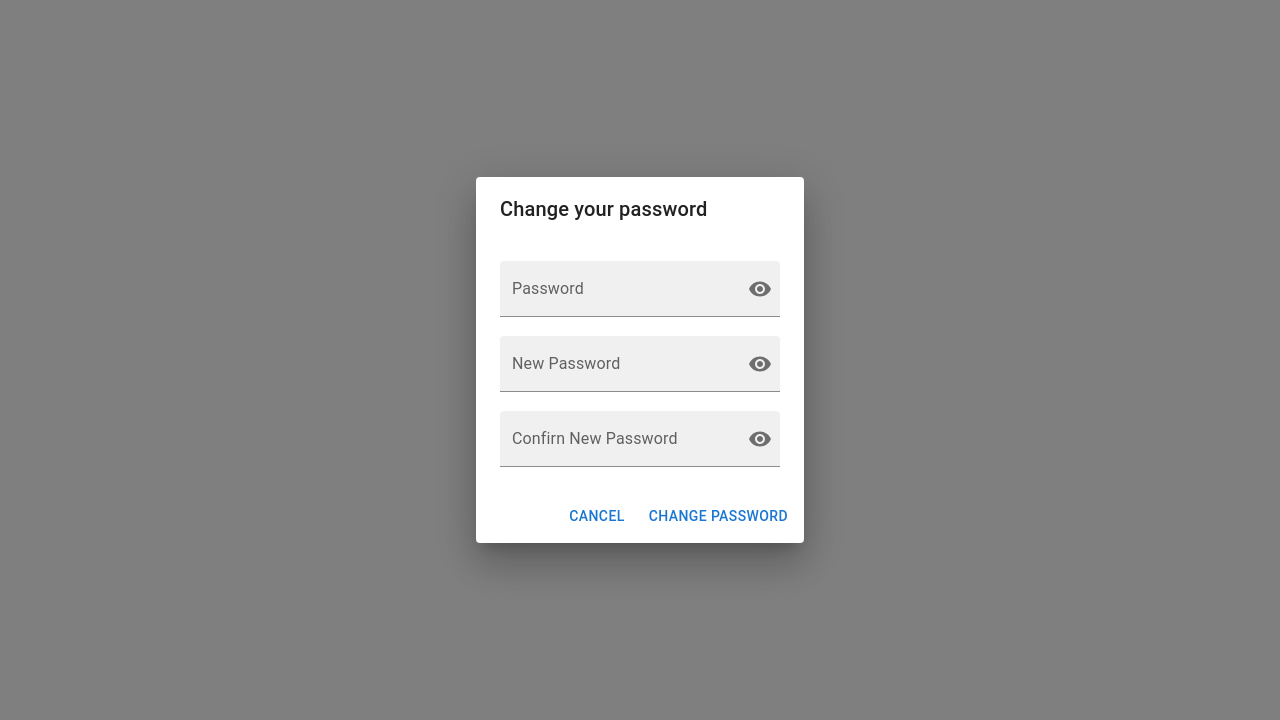
Scenario: ChangePasswordDialog: › Tests with requests: › Should show new password error message.
The image size is (1280, 720).
User fills all inputs correctly
In the password field with placeholder "Password you logged in": (616, 289) [500,261,732,317], type "password"
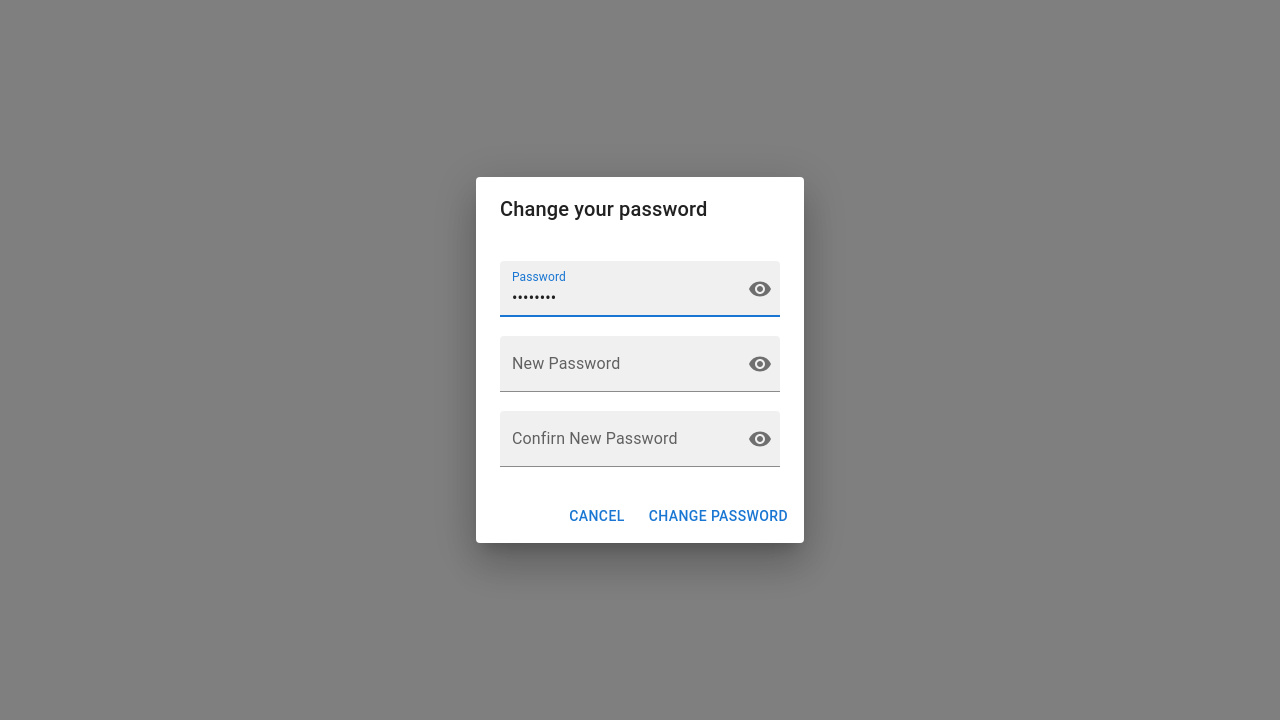
In the password field with placeholder "Min. 8 characters": (616, 364) [500,336,732,392], type "password"
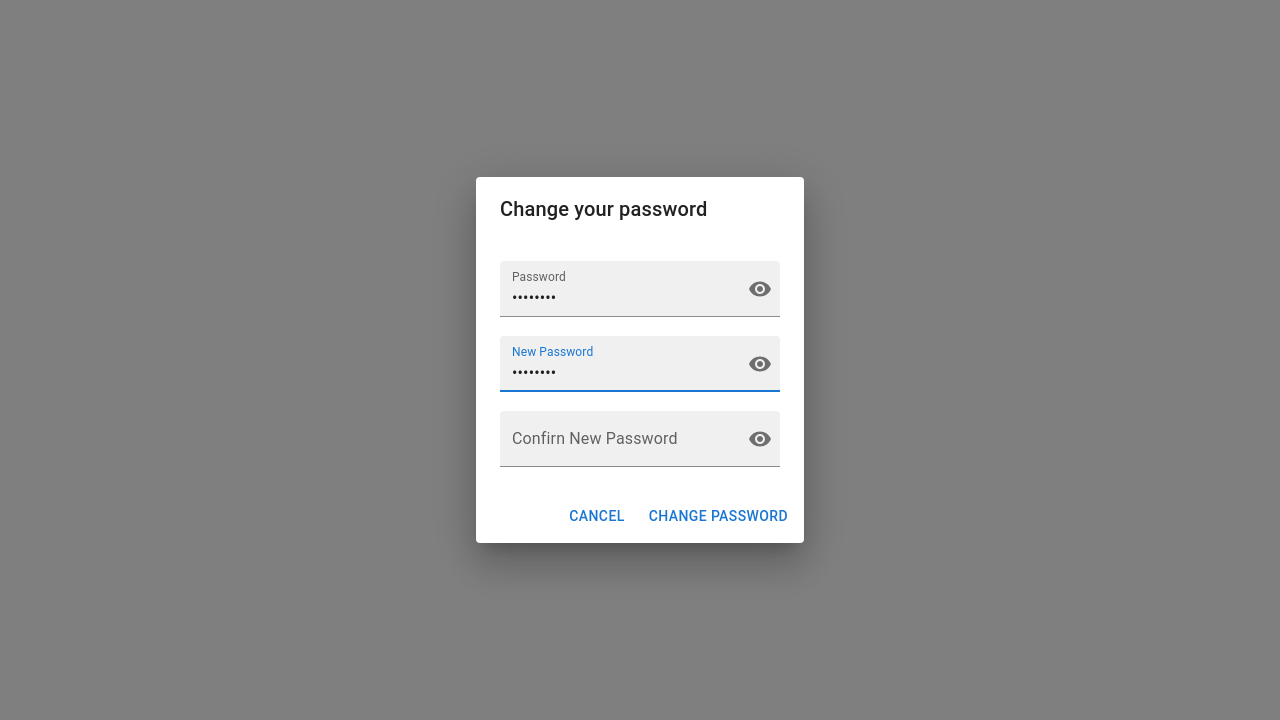
In the password field with placeholder "New password confirmation": (616, 439) [500,411,732,467], type "password"
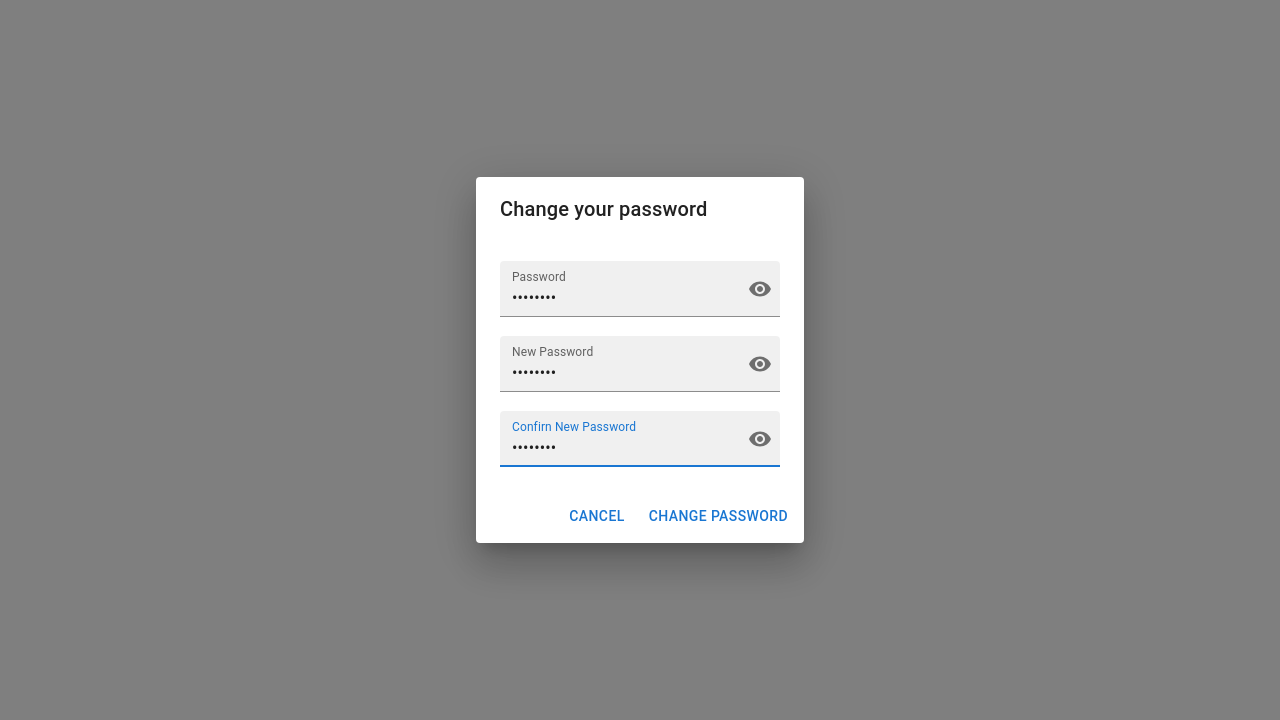
Click the button "Change Password": (718, 517) [641,498,796,535]
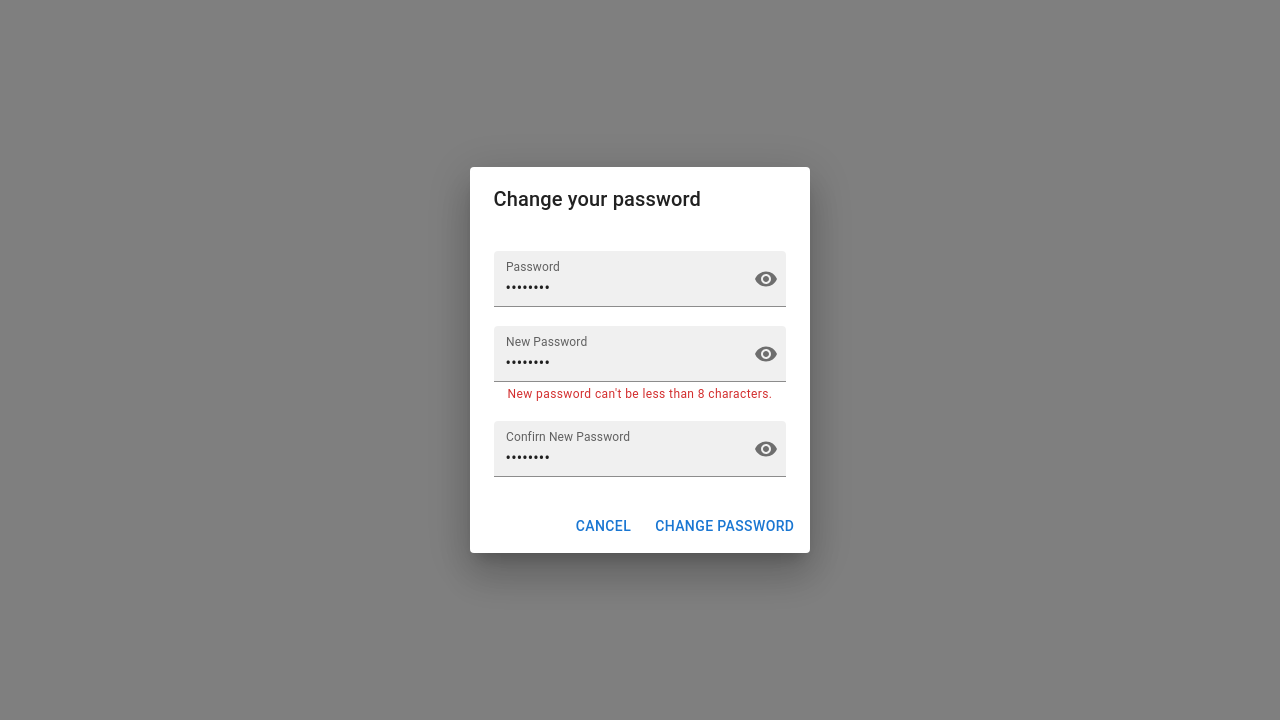
expect the text "New password can't be less than 8 characters." is shown: met, box [508,385,772,405]
